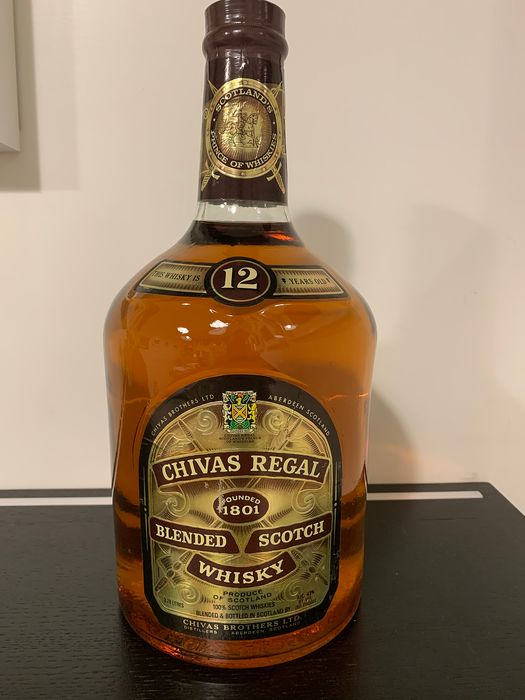Chivas Regal: (91, 1, 398, 684)
